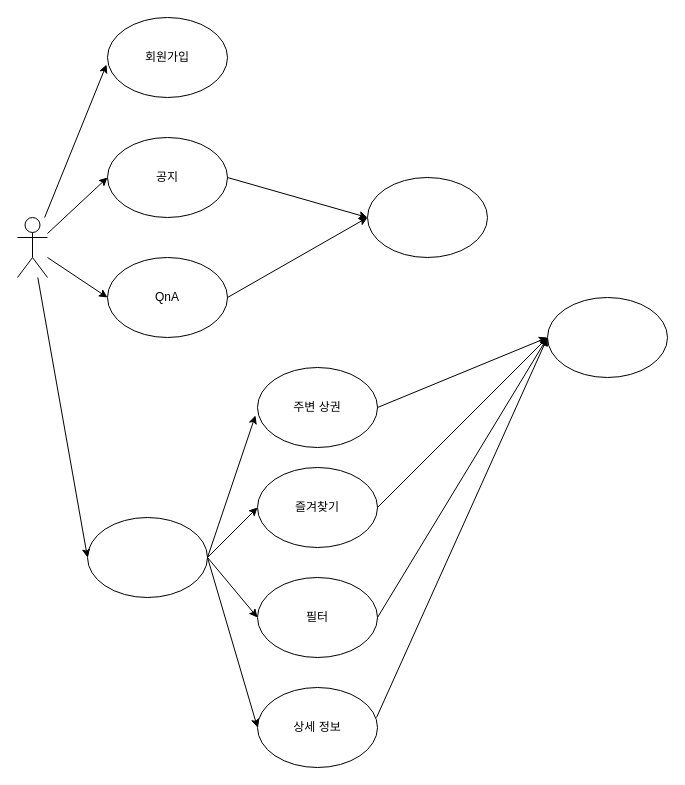
Some shapes in this 685 by 785 pixel diagram are drawn without their labels. Here are the shapes that lost their labels. From the top down, the centre of each, then its label:
point (427, 217): 댓글
point (32, 247): user
point (607, 337): 로그인
point (147, 557): 아파트 매매 정보
